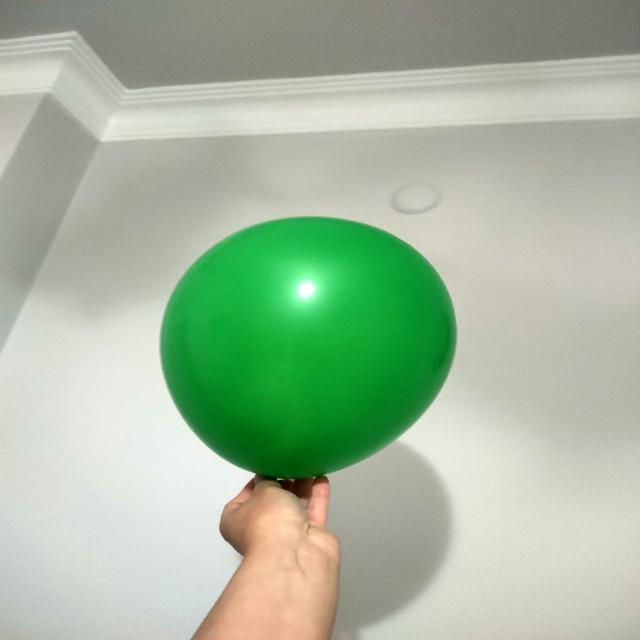green: (160, 216, 458, 479)
